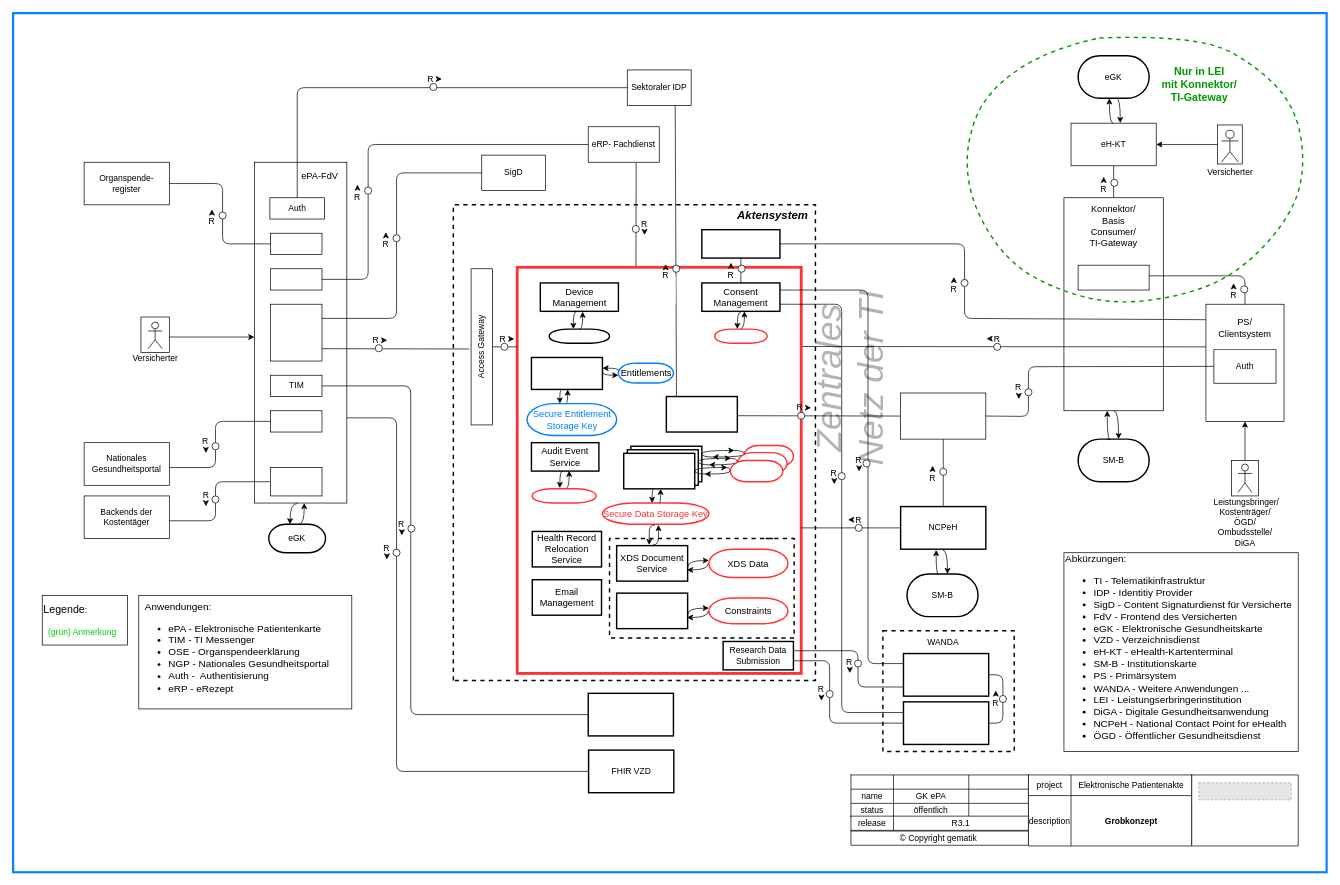
Image size: 1340x885. Some labels were removed from this diagram. Grey dashed boxes stand in for pictures. Each missing label, with the centre of its shape:
"Audit Events" belongs at [563,495].
"Authorization Service" belongs at [701,413].
"Consents" belongs at [740,336].
"Constraint Management" belongs at [652,610].
"Devices" belongs at [579,336].
"Entitlement Management" belongs at [566,373].
"ePA" belongs at [296,332].
"eRP" belongs at [296,279].
"FHIR Data" belongs at [756,470].
"FHIR Data Services e.g. Medication Service" belongs at [659,470].
"Forschungsdaten- zentrum" belongs at [945,674].
"IDP Dienst" belongs at [943,415].
"Information Service" belongs at [740,243].
"Internet" belongs at [425,396].
"KTR- Funktionen" belongs at [296,481].
"NGP" belongs at [296,421].
"OSE" belongs at [296,244].
"TIM Fachdienst" belongs at [630,714].
"VAU" belongs at [648,289].
"Vertrauensstelle RKI" belongs at [945,723].
"VSDM" belongs at [1113,277].
